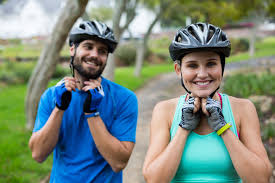helmet: (167, 21, 232, 54), (68, 16, 117, 46)
